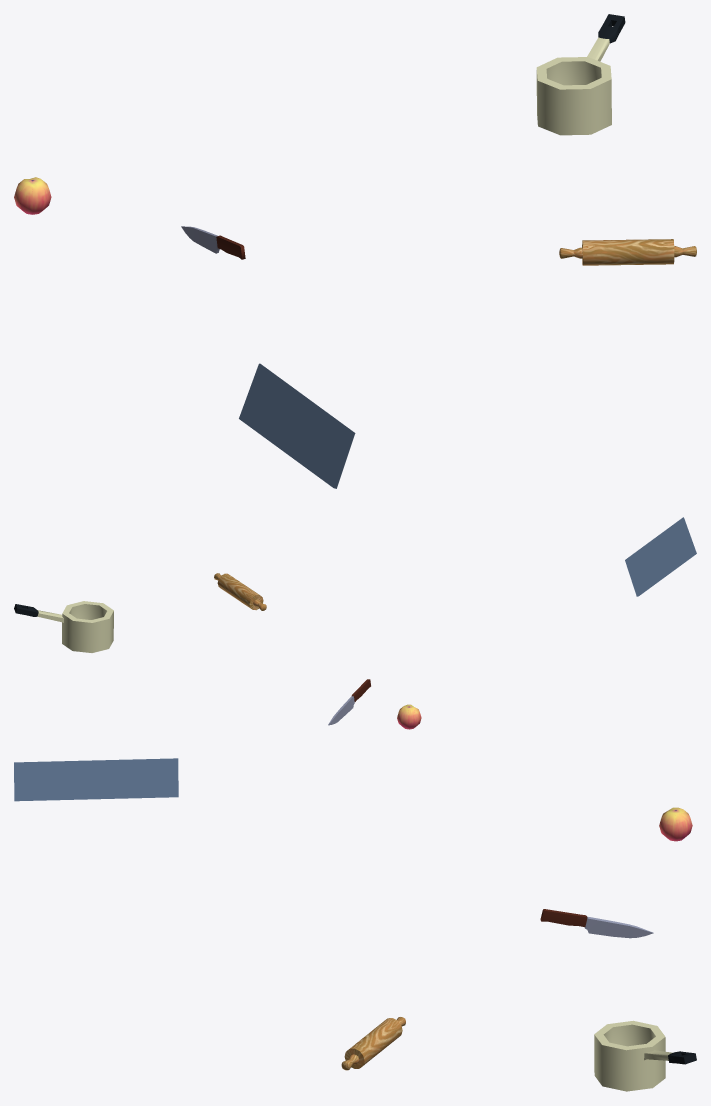
Rendered from Objetos_Animated.glb.
3 views of the same model, one above another, from view 1: azimuth 30°, elevation 25°; view 2: azimuth 150°, elevation 25°; view 3: azimuth 270°, elevation 25° (orthographic). The views are drawn at different scales.
Parts seen in each view (by area): view 1: Puerta Horno, Cocineta.001, rodillo, fruta, cuchillo; view 2: Cocineta.001, Puerta Horno, rodillo, fruta, cuchillo; view 3: Puerta Horno, Cocineta.001, rodillo, cuchillo, fruta.
Boxes of the visible parts, x1,y1,x2,y2 form: Puerta Horno: [239, 363, 355, 488]; Cocineta.001: [536, 14, 625, 135]; rodillo: [559, 239, 696, 265]; fruta: [14, 177, 51, 214]; cuchillo: [181, 226, 245, 259]; Cocineta.001: [14, 601, 113, 652]; Puerta Horno: [625, 517, 696, 596]; rodillo: [214, 573, 266, 610]; fruta: [397, 704, 421, 729]; cuchillo: [328, 679, 370, 725]; Puerta Horno: [14, 758, 178, 801]; Cocineta.001: [594, 1020, 696, 1091]; rodillo: [341, 1017, 405, 1070]; cuchillo: [540, 909, 653, 938]; fruta: [659, 807, 692, 841].
Size of what is drawn, in the model's own units: 9.07 by 1.41 by 8.96.
Materials: 7 (2 with a texture image).
